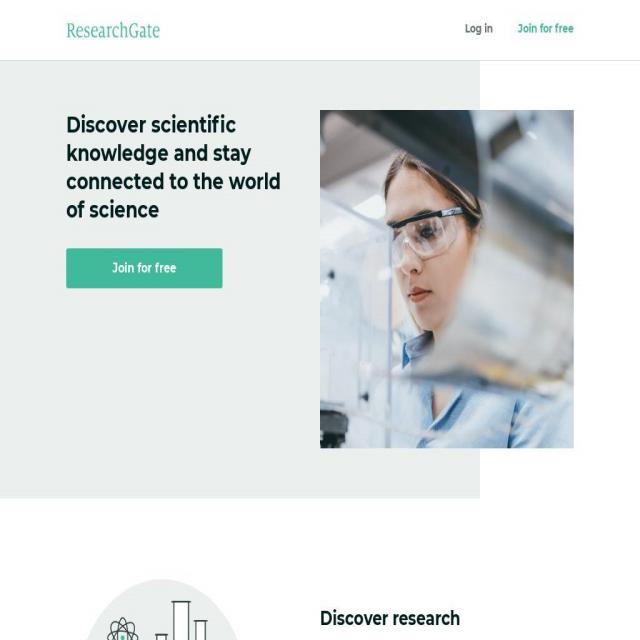button: (65, 248, 222, 289)
